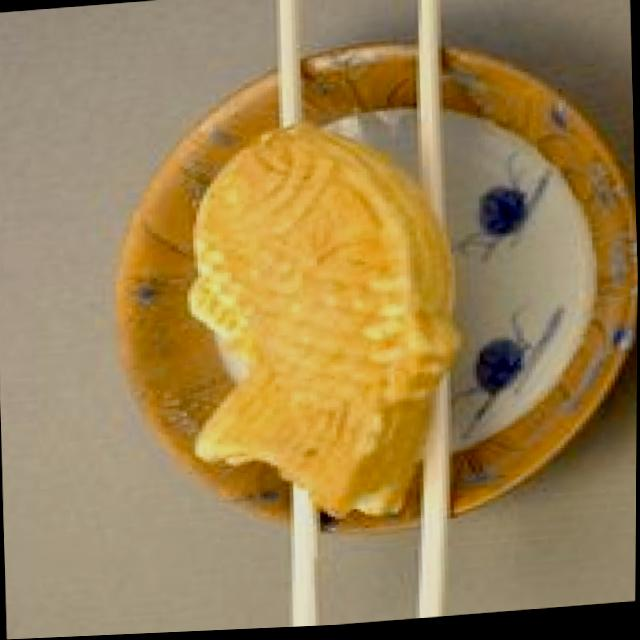熟制海鲜: (177, 125, 449, 532)
